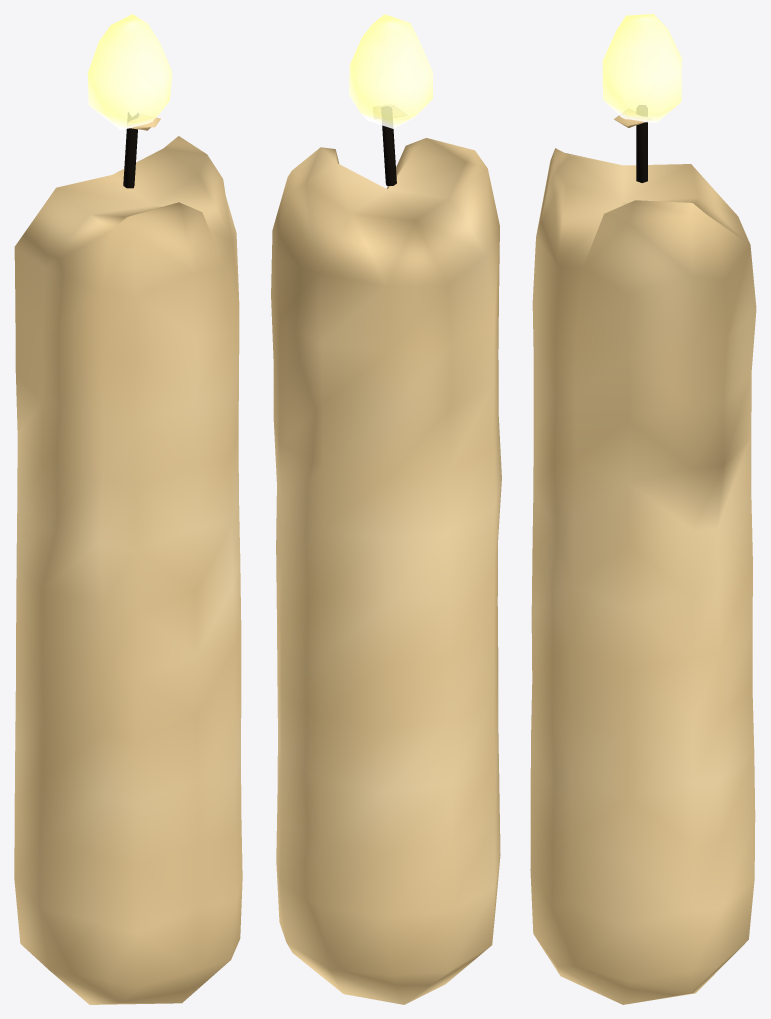
Rendered from candle_xlo.glb.
3 renders of one model, left to right at view 1: azimuth 30°, elevation 25°; view 2: azimuth 150°, elevation 25°; view 3: azimuth 270°, elevation 25°, orthographic.
Visible parts, largest first — view 1: candle; view 2: candle; view 3: candle.
Boxes of the visible parts, x1,y1,x2,y2 form: candle: (14,14,242,1004); candle: (271,14,501,1004); candle: (530,14,756,1004).
Size of the model in its own units: 0.0828 by 0.3889 by 0.0818.
